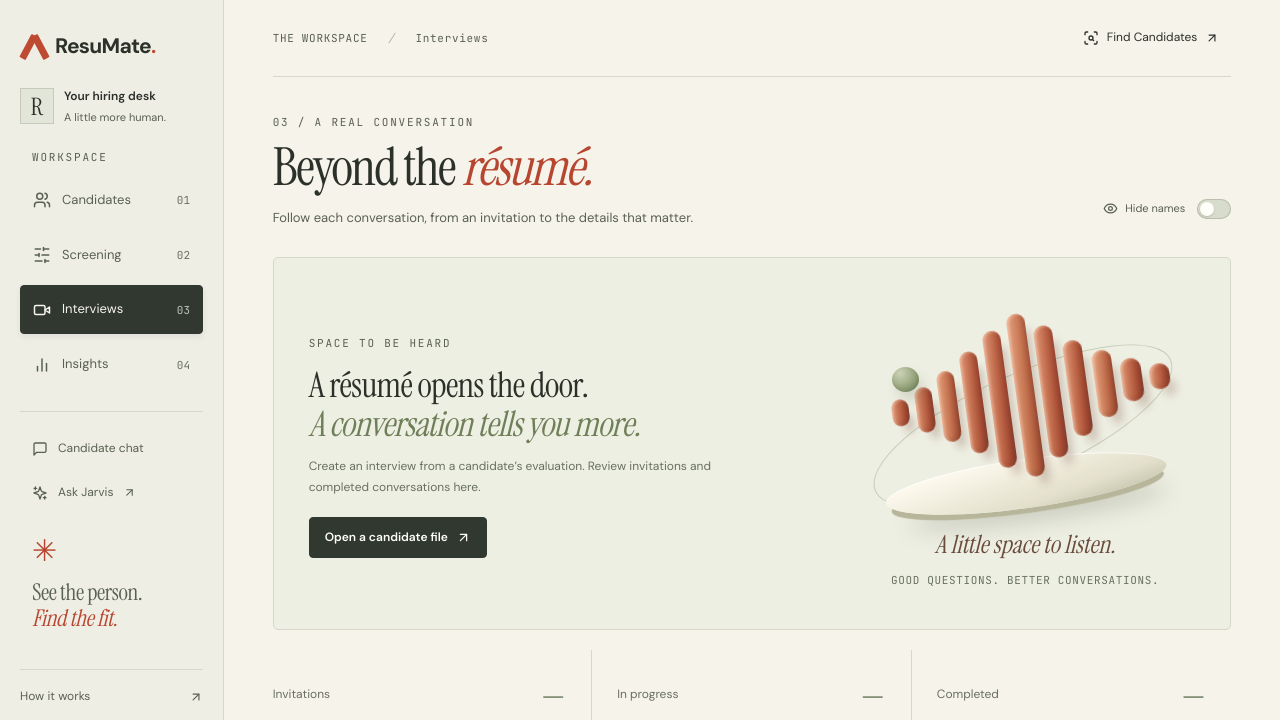
Test: the dashboard in the workspace frame › opens Jarvis from the sidebar over any view
Click the button "Ask Jarvis": coordinates (112, 493) [20, 474, 203, 512]
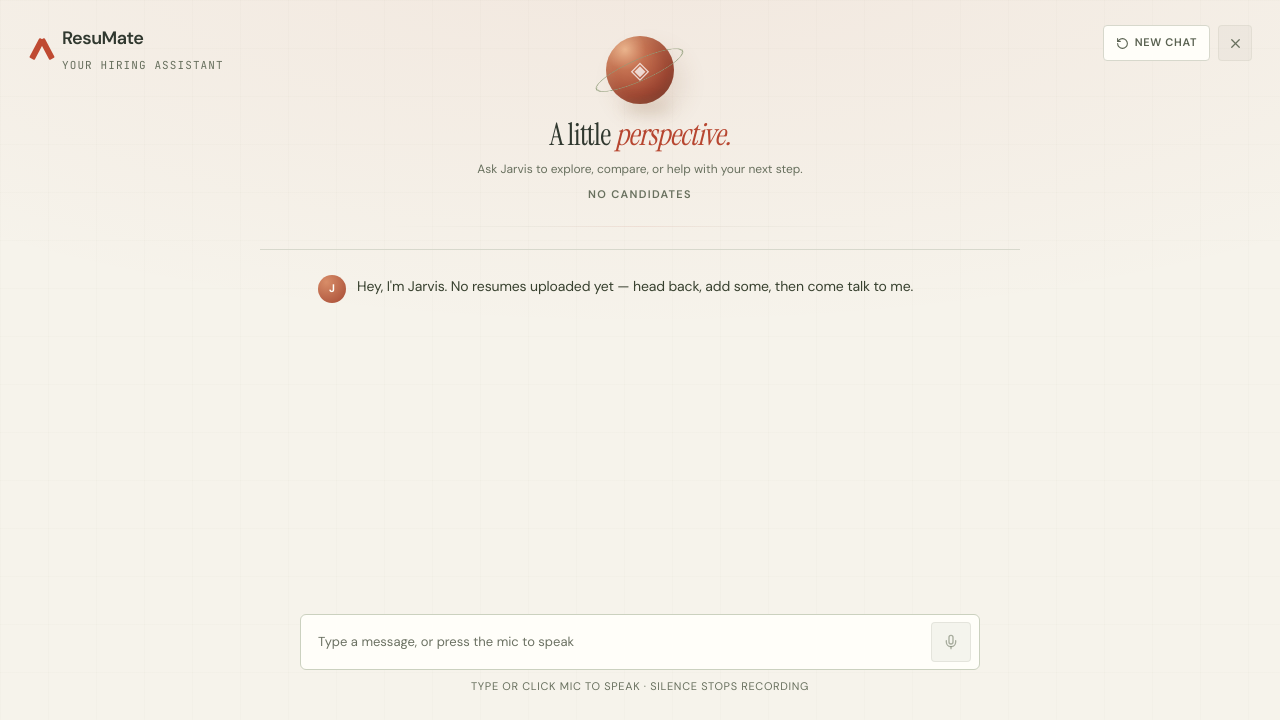
Now the dialog named "Jarvis, the hiring copilot" is shown
